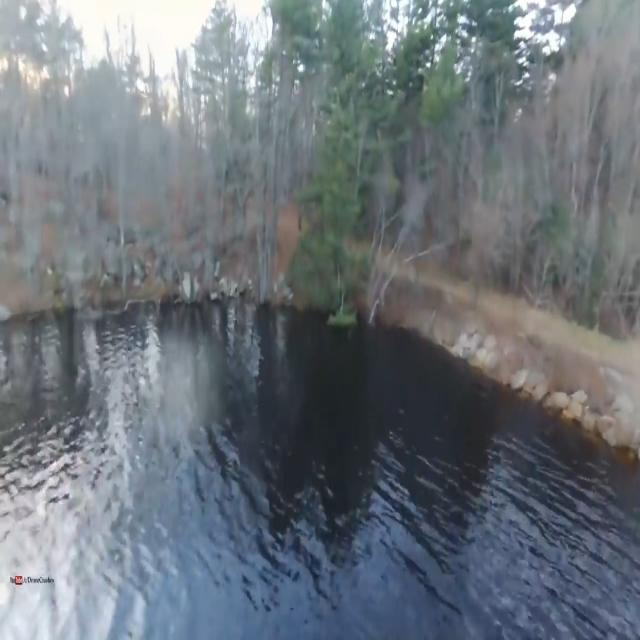Tree: (537, 9, 640, 358), (279, 91, 376, 340), (445, 0, 526, 287), (190, 7, 264, 213), (379, 2, 439, 254), (262, 9, 318, 211), (327, 4, 378, 142)
